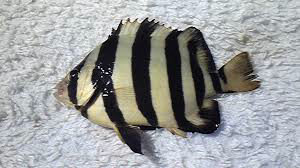azi: (53, 13, 254, 144)
